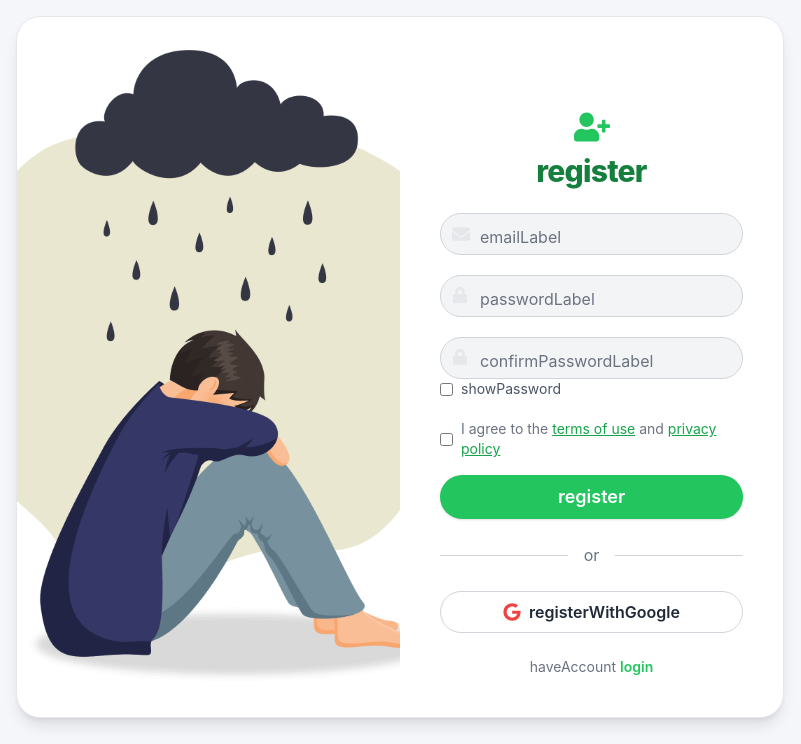
it: RegisterForm › shows validation error for short password
The width and height of the screenshot is (801, 744).
In the field named "email": (592, 234) [440,213,743,255], type "test@example.com"
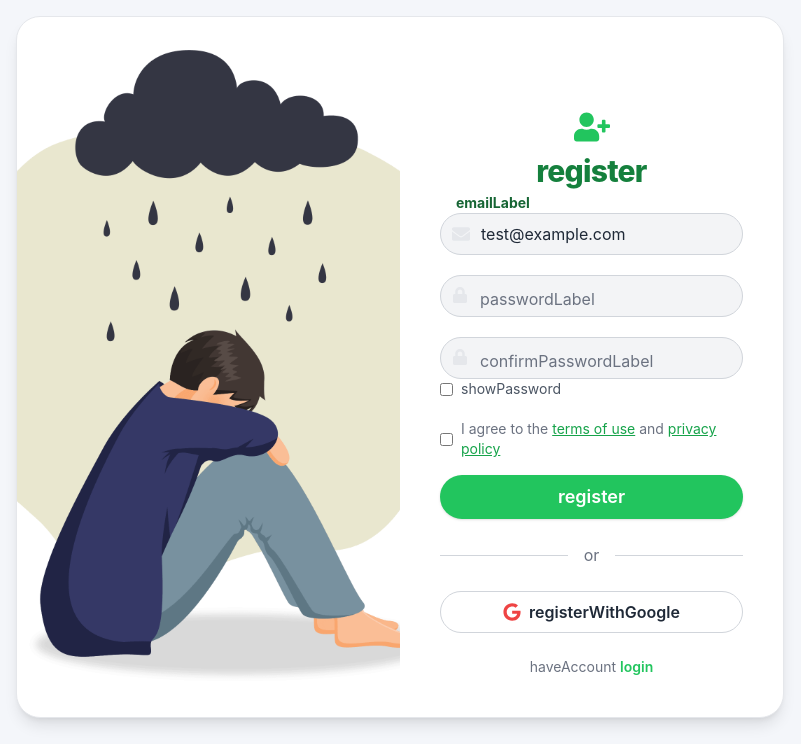
In the 1st password field named "password": (592, 296) [440,275,743,317], type "123"
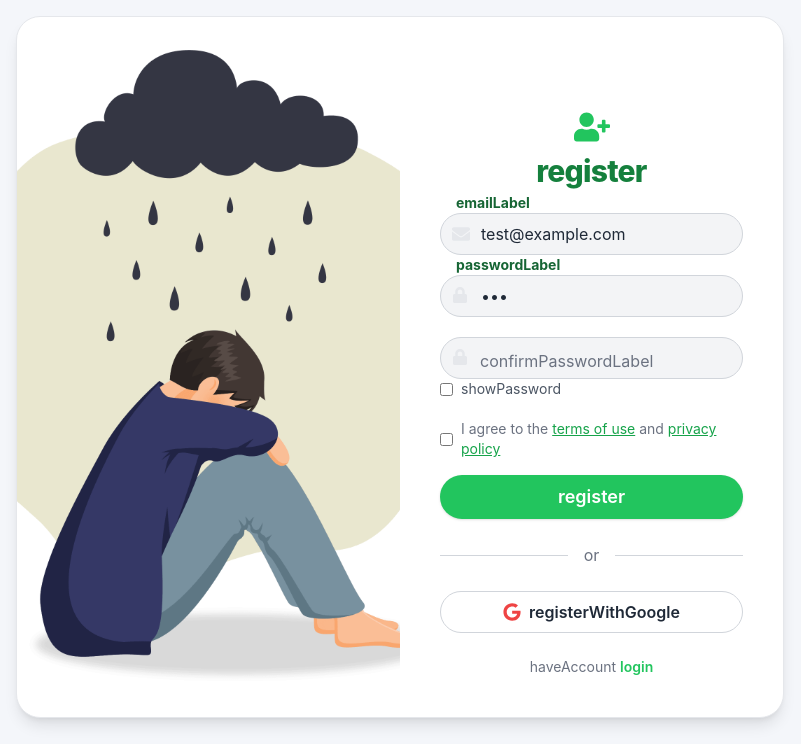
In the password field named "confirmPassword" next to "confirmPasswordLabel": (592, 358) [440,337,743,379], type "123"
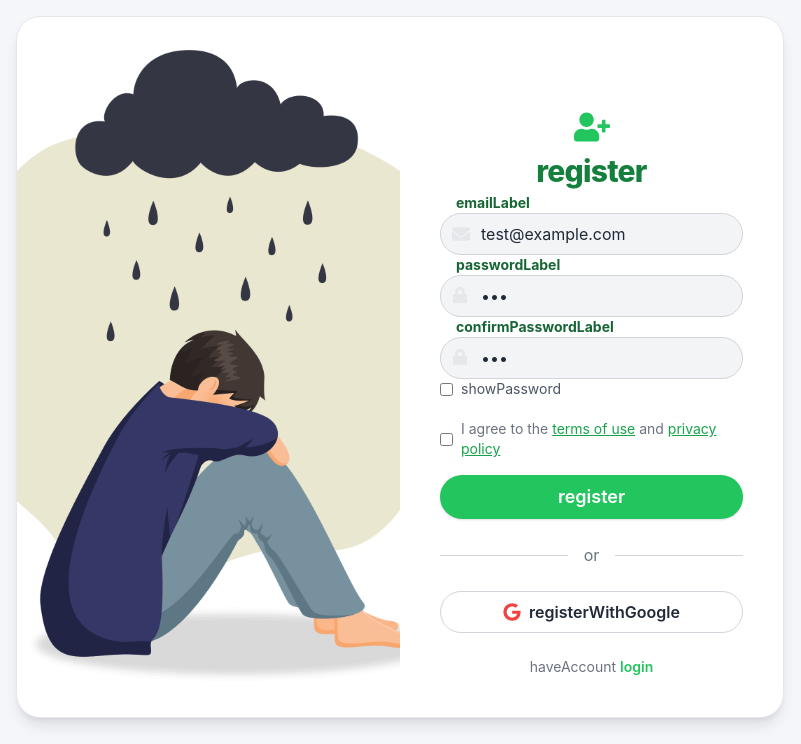
Click the button "register": (592, 497) [440,475,743,519]
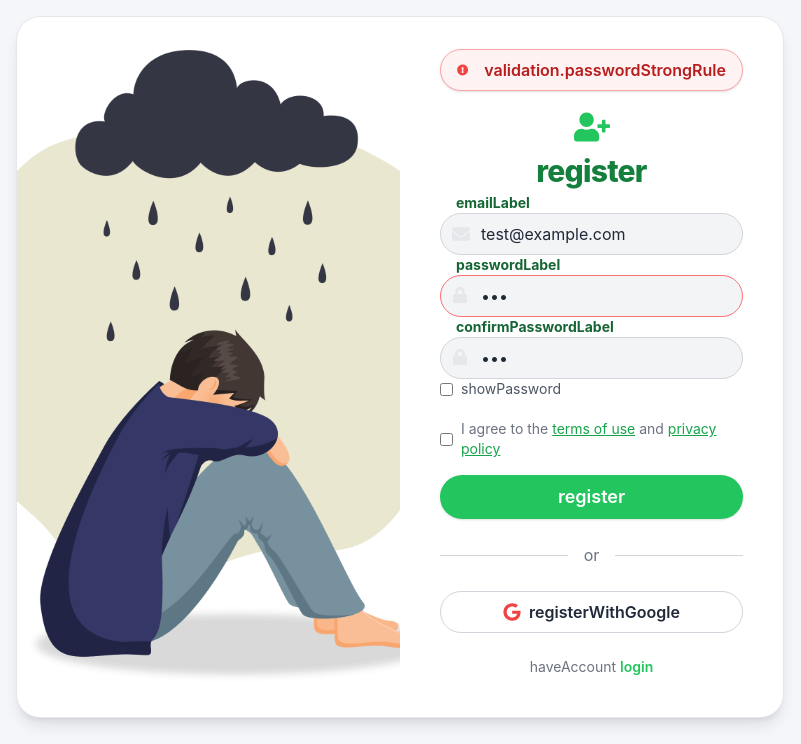
Expected: the text "validation.passwordStrongRule" is shown, [484,58,726,82]
